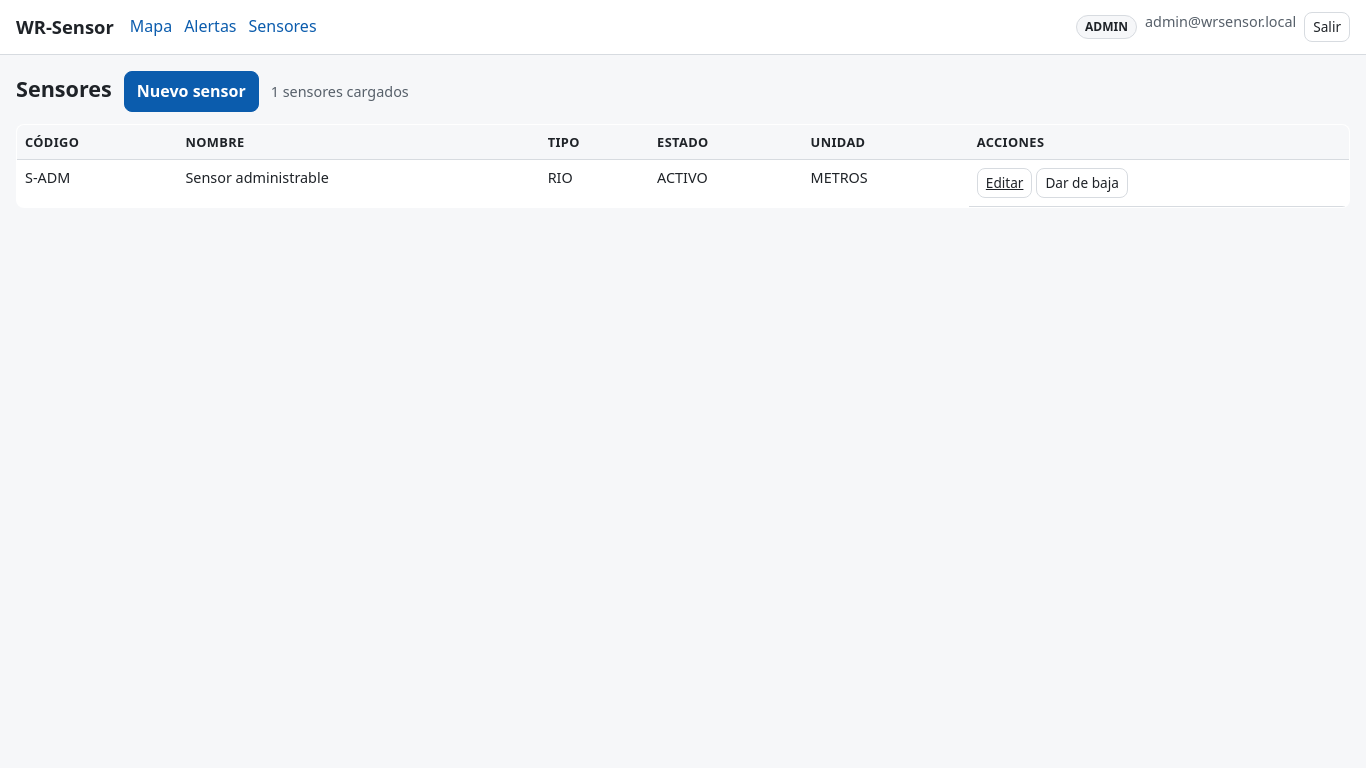
Test: FEAT-0016 · edición y baja › AC-005/BR-004/BR-005: la edición envía el subset y la baja es lógica con confirmación
Expected: the table is shown, [16,124,1350,208]
baja: primero confirma (dice INACTIVO, no "elimina")
Click the button "Dar de baja" at (1082, 183), box [1036,168,1128,198]
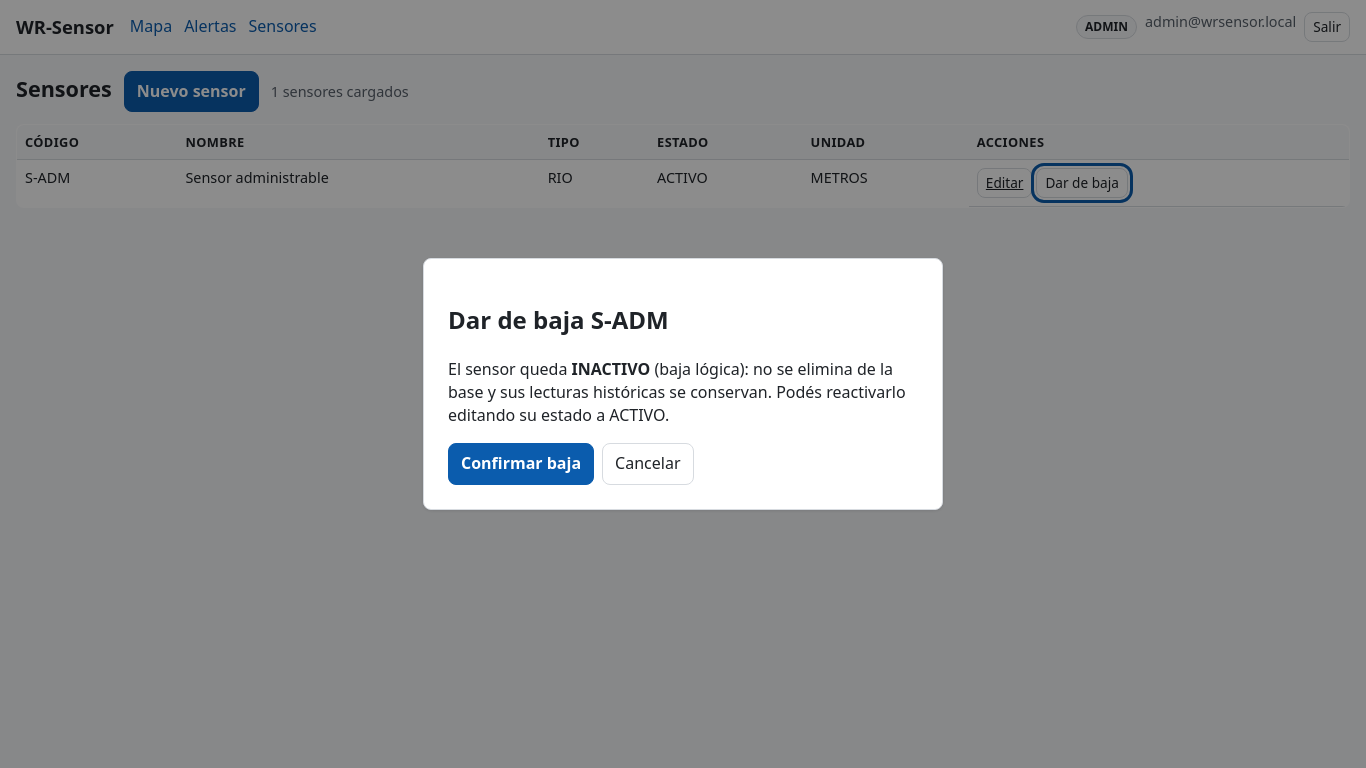
Expected: the text "queda" is shown, [448,358,572,380]
Expected: the text "INACTIVO" is shown, [572,358,650,380]
Expected: the text "no se elimina" is shown, [448,358,906,426]
Click the button "Cancelar" at (648, 464), box [602,444,694,485]
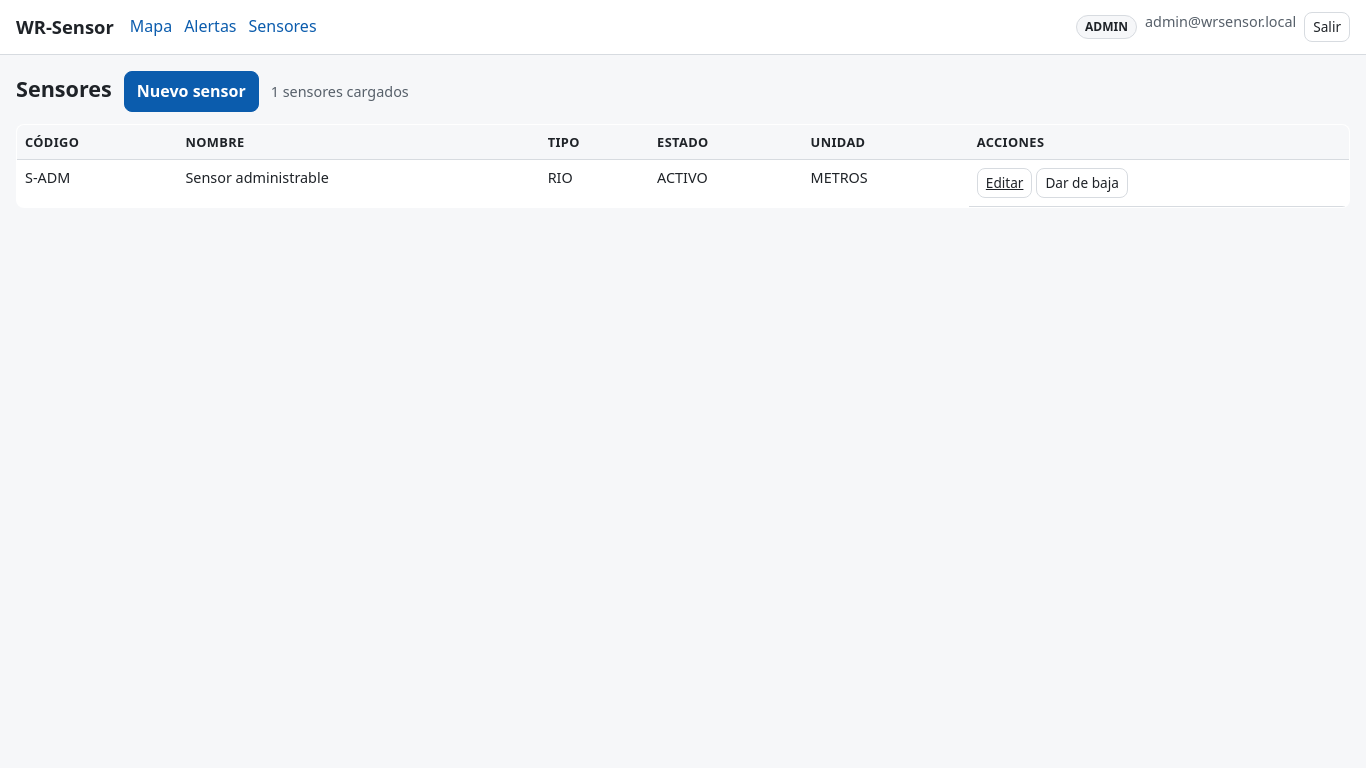
Expected: the dialog is gone
